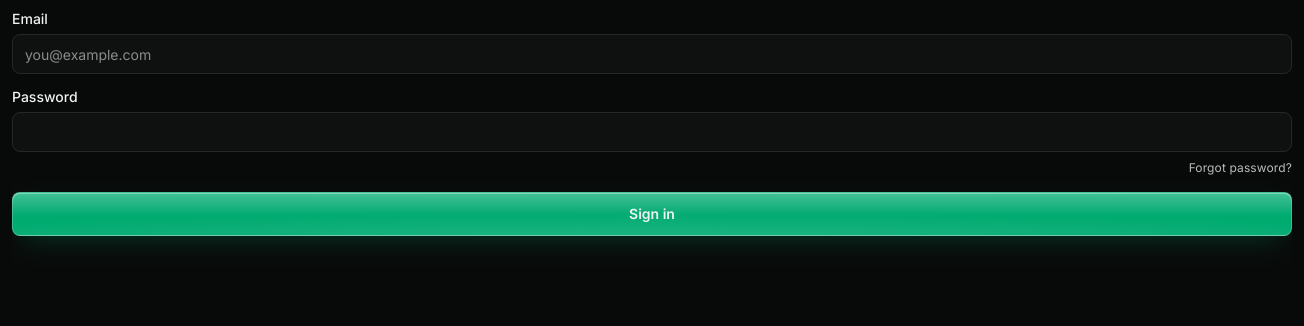
Scenario: LoginForm › shows the API error without redirecting
In the field labelled "Email": [652, 54] box [12, 34, 1292, 74], type "learner@example.com"
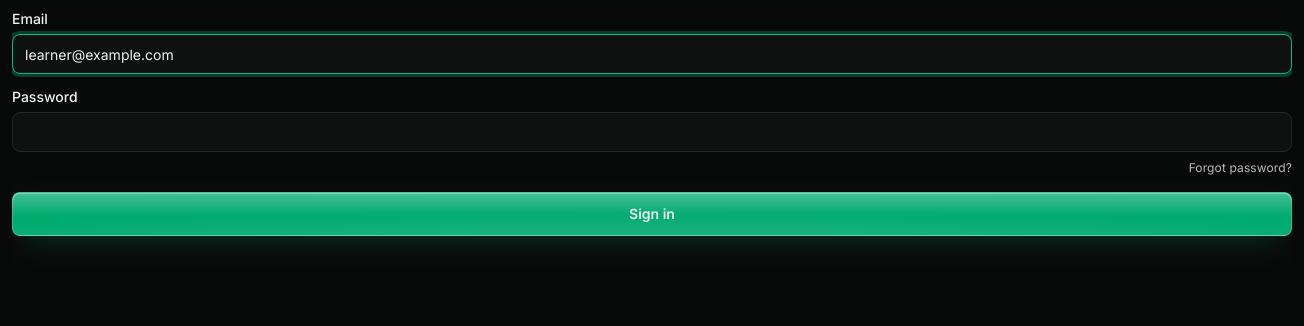
In the password field labelled "Password": [652, 132] box [12, 112, 1292, 152], type "wrong-password"
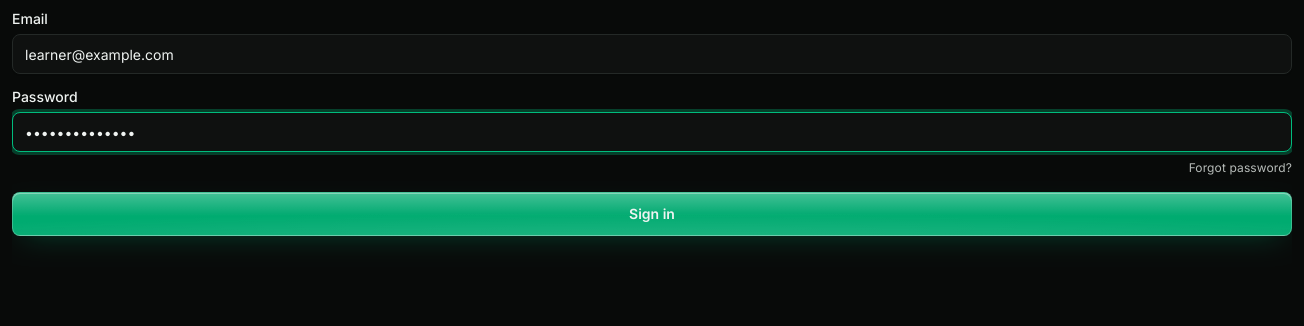
Click the button "Sign in": [652, 214] box [12, 192, 1292, 236]
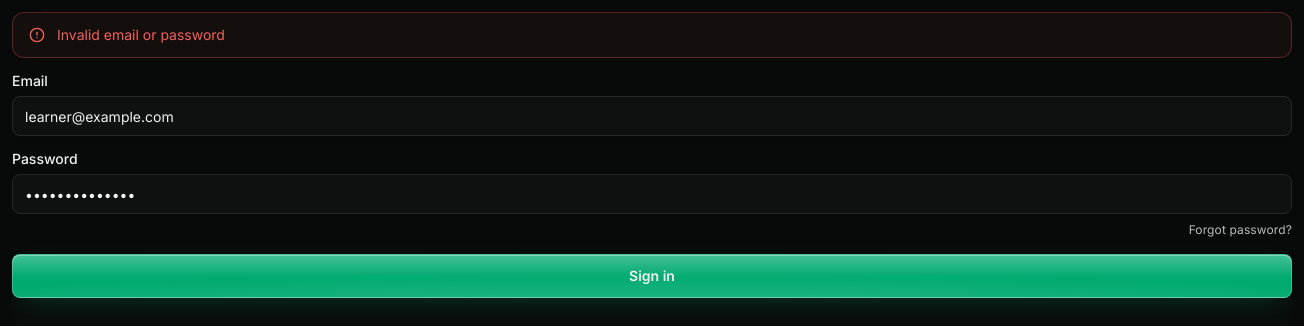
Check: the message reads "Invalid email or password", box [57, 26, 225, 43]
